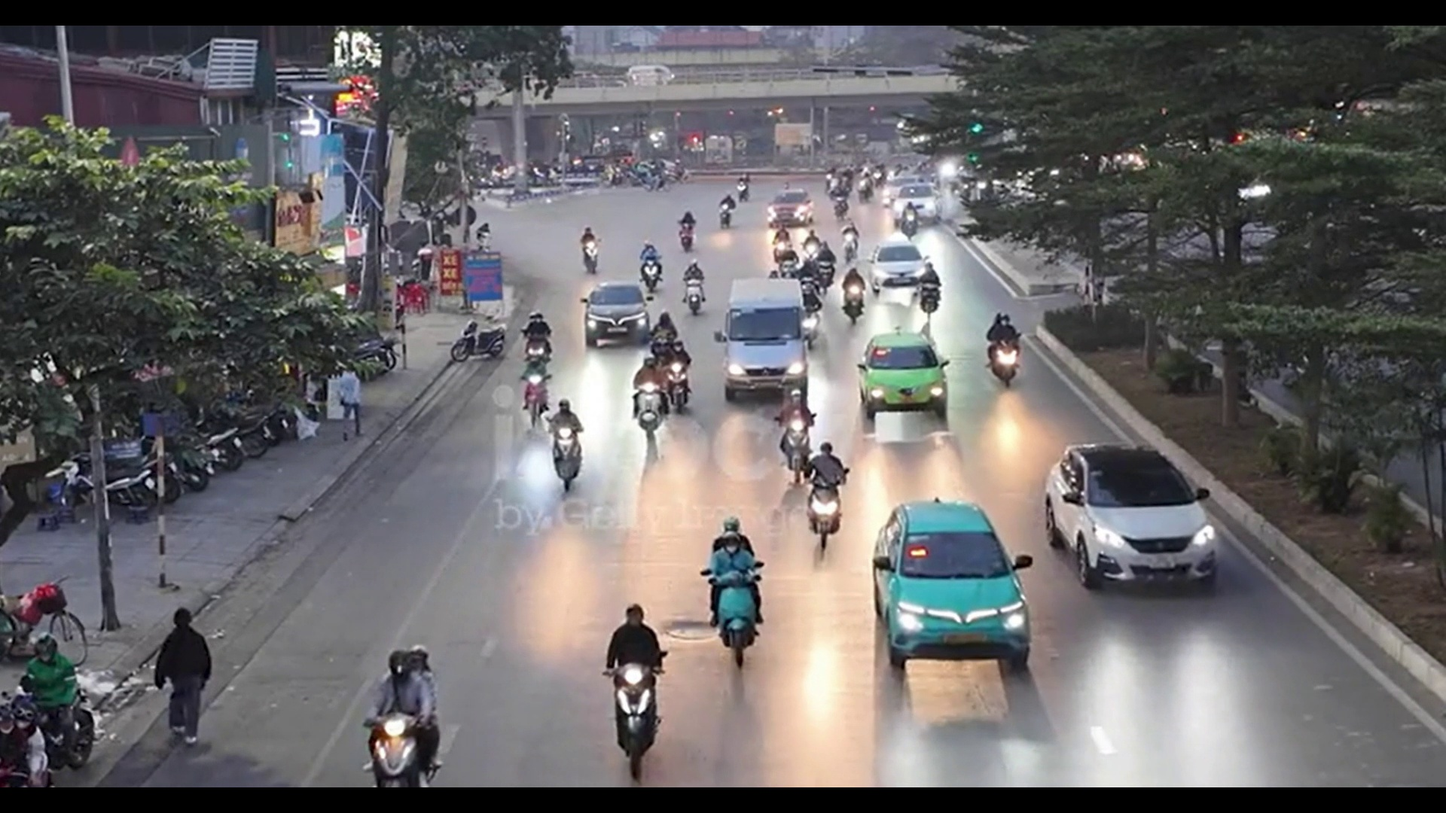car: (872, 499, 1032, 667), (1043, 441, 1220, 589), (718, 278, 812, 400), (860, 334, 947, 426), (583, 280, 648, 350), (870, 240, 934, 294), (985, 312, 1022, 386)
motorcycle: (802, 441, 848, 546), (712, 580, 763, 663), (549, 407, 585, 494)
